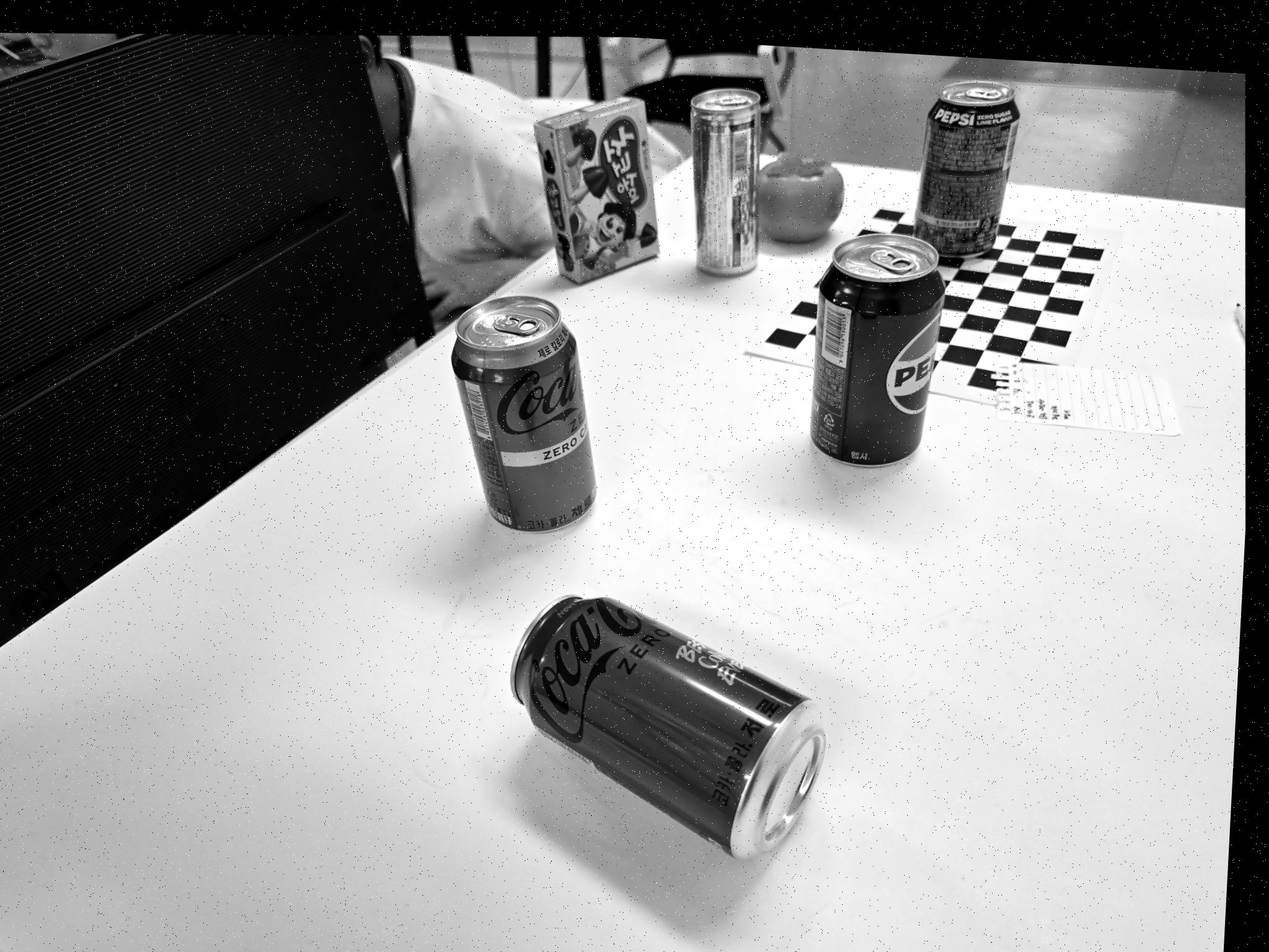can_coke_decaf: (449, 293, 598, 531)
can_coke_zero: (512, 590, 826, 859)
can_pepsi: (805, 231, 946, 465)
